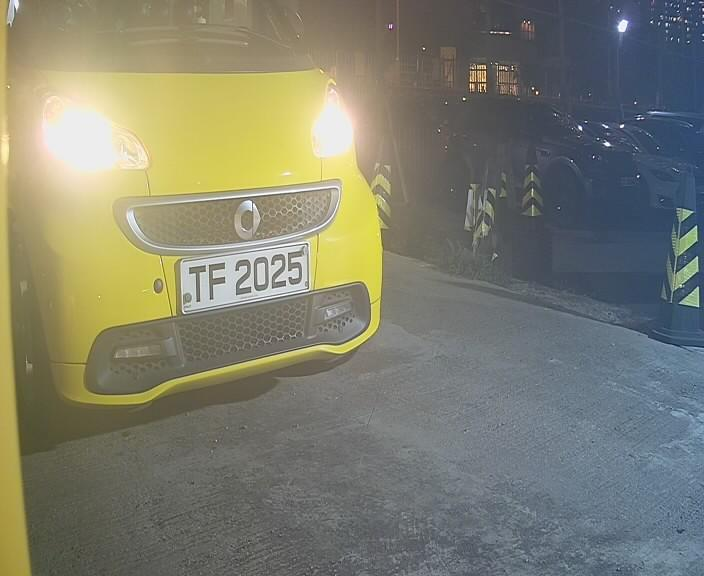privatecar: (1, 1, 387, 443)
